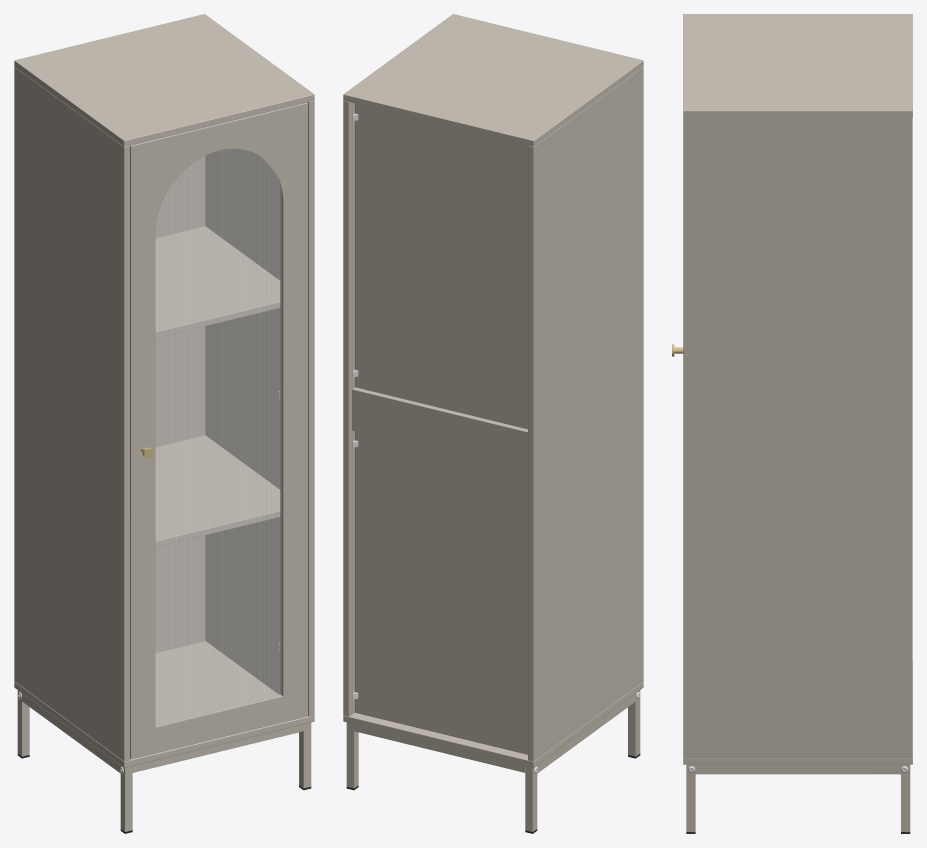
File: puff.glb
The picture shows the model from 3 angles, left to right: view 1: azimuth 30°, elevation 25°; view 2: azimuth 150°, elevation 25°; view 3: azimuth 270°, elevation 25°; orthographic projection. The views are drawn at different scales.
Parts seen in each view (by area): view 1: 30151092-SOURCIDYS-BUFFET_CABINET-BEIGE-paint, 30151092-SOURCIDYS-BUFFET_CABINET-BEIGE-glass; view 2: 30151092-SOURCIDYS-BUFFET_CABINET-BEIGE-paint; view 3: 30151092-SOURCIDYS-BUFFET_CABINET-BEIGE-paint.
Boxes of the visible parts, left/top/right/bottom form: 30151092-SOURCIDYS-BUFFET_CABINET-BEIGE-paint: left=14, top=14, right=314, bottom=831; 30151092-SOURCIDYS-BUFFET_CABINET-BEIGE-glass: left=156, top=149, right=281, bottom=725; 30151092-SOURCIDYS-BUFFET_CABINET-BEIGE-paint: left=343, top=14, right=643, bottom=831; 30151092-SOURCIDYS-BUFFET_CABINET-BEIGE-paint: left=683, top=14, right=912, bottom=831.
Size of the model in its own units: 0.385 by 1.34 by 0.404.
Materials: 5 (5 with a texture image).
